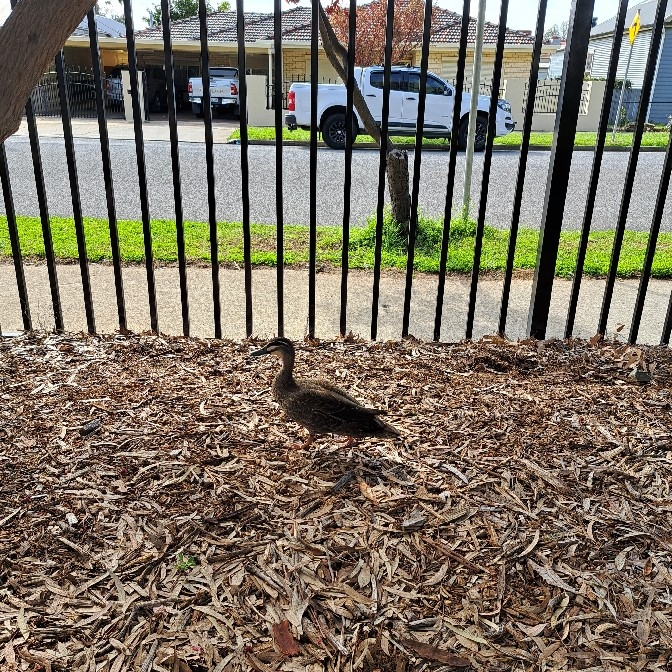Not_a_Chicken: (243, 319, 416, 485)
